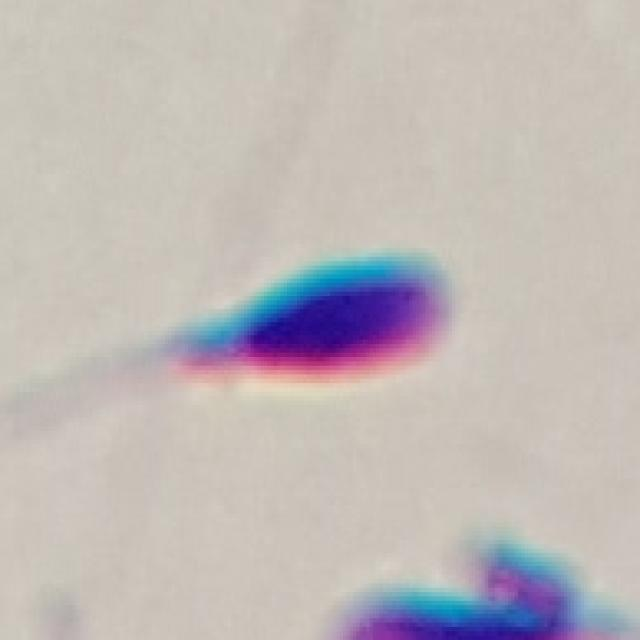abnormal sperm: (0, 243, 460, 406)
